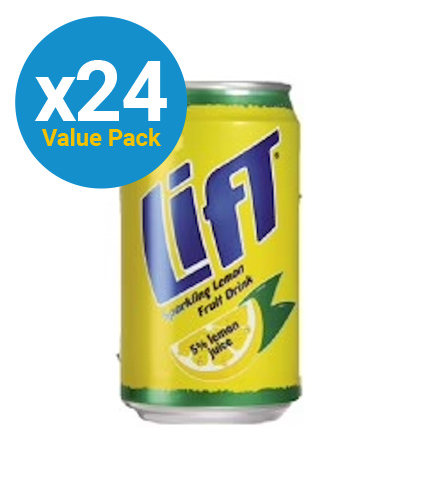cylinder: (120, 81, 300, 424)
